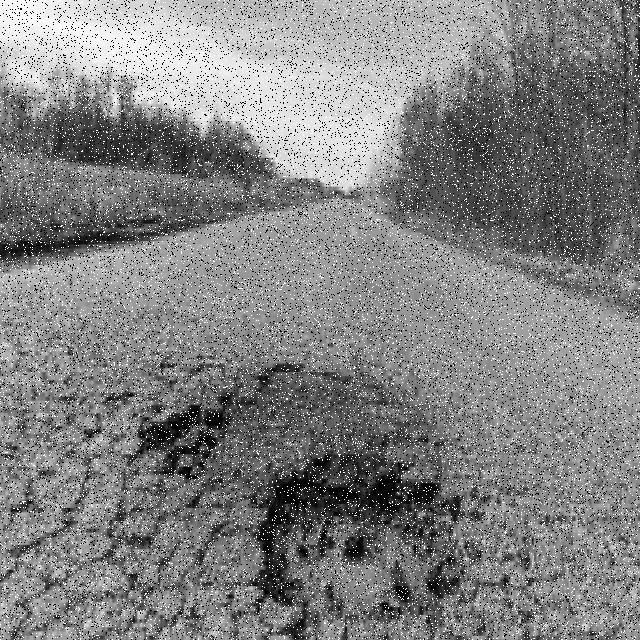pothole: (140, 380, 451, 611)
